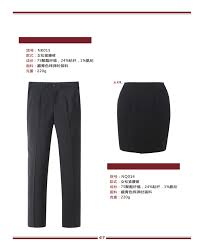F_dress pants: (21, 78, 87, 230)
F_tailored skirt: (112, 79, 174, 156)
